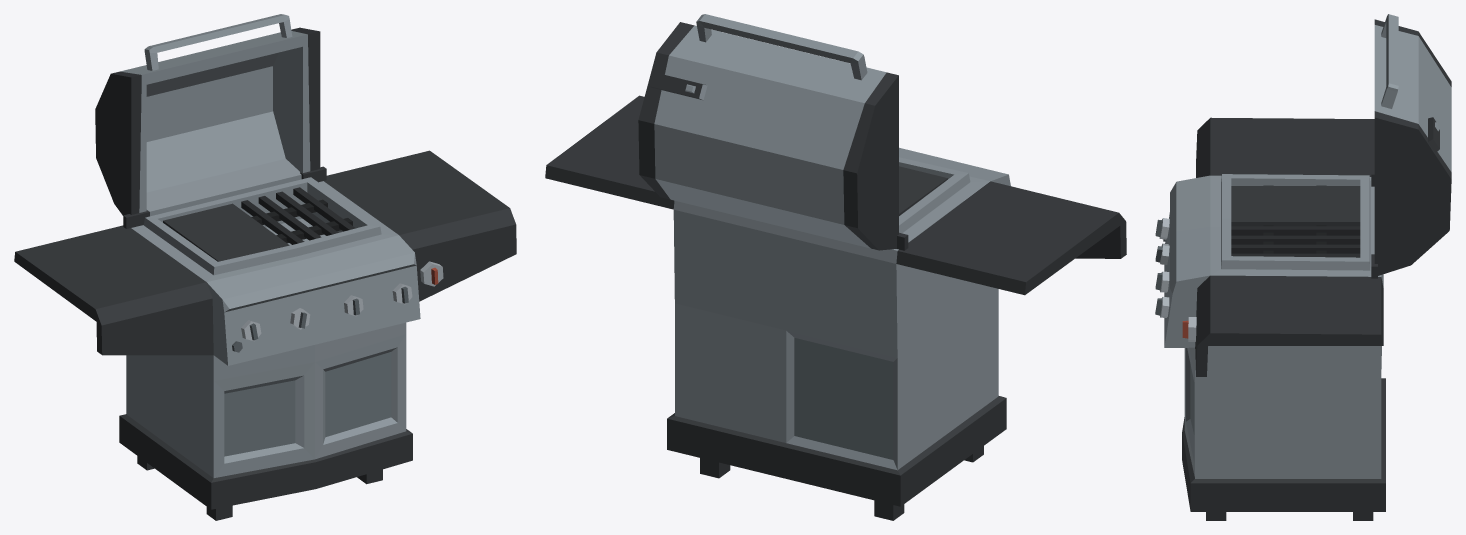
The model's file is SM_Prop_Barbeque_01.fbx.
The picture shows the model from 3 angles, left to right: view 1: azimuth 30°, elevation 25°; view 2: azimuth 150°, elevation 25°; view 3: azimuth 270°, elevation 25°; orthographic projection. The views are drawn at different scales.
Parts seen in each view (by area): view 1: SM_Prop_Barbeque_01, SM_Prop_Barbeque_Lid_01; view 2: SM_Prop_Barbeque_01, SM_Prop_Barbeque_Lid_01; view 3: SM_Prop_Barbeque_01, SM_Prop_Barbeque_Lid_01.
Boxes of the visible parts, x1,y1,x2,y2 form: SM_Prop_Barbeque_01: (14, 150, 516, 520); SM_Prop_Barbeque_Lid_01: (95, 14, 326, 228); SM_Prop_Barbeque_01: (545, 95, 1126, 520); SM_Prop_Barbeque_Lid_01: (638, 14, 908, 250); SM_Prop_Barbeque_01: (1155, 117, 1385, 520); SM_Prop_Barbeque_Lid_01: (1371, 14, 1451, 278).
Size of the model in its own units: 176 by 165 by 102.
